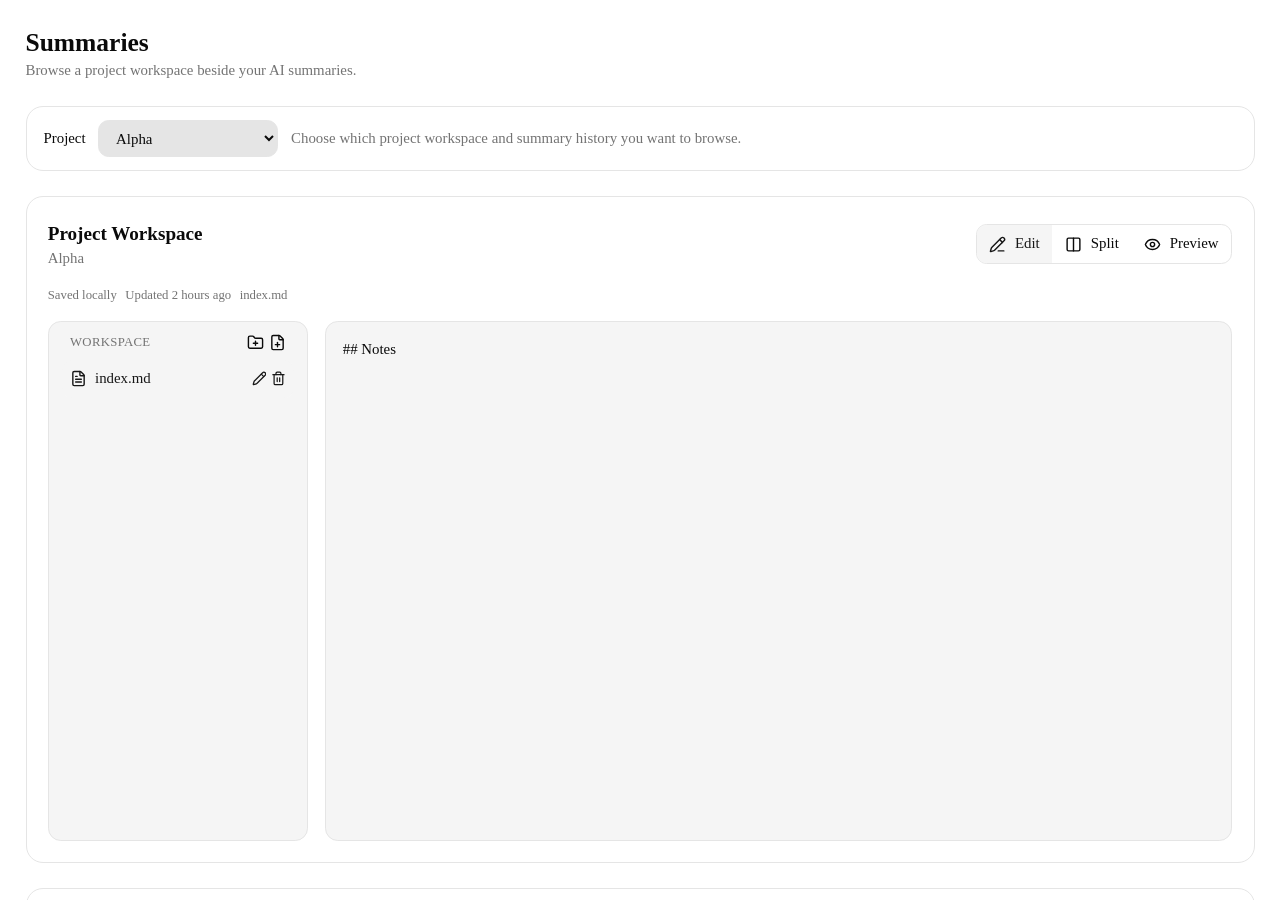
Test case: SummaryPanel › switches the workspace note into preview mode
The image size is (1280, 900).
Click the button "Preview". click: (1181, 244)
box: [1132,225,1231,263]
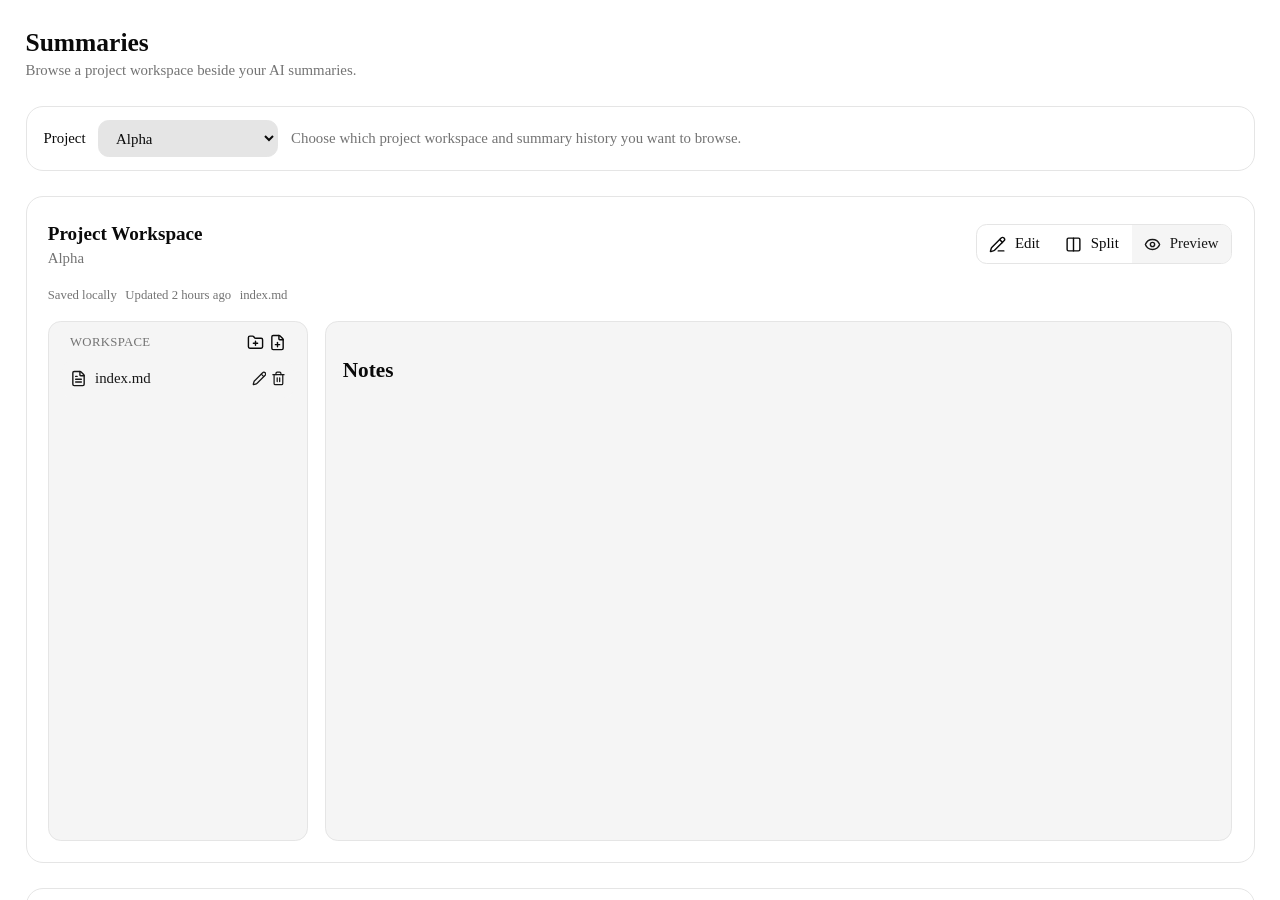
Now the heading "Notes" is shown, box [343,358,394,382]
